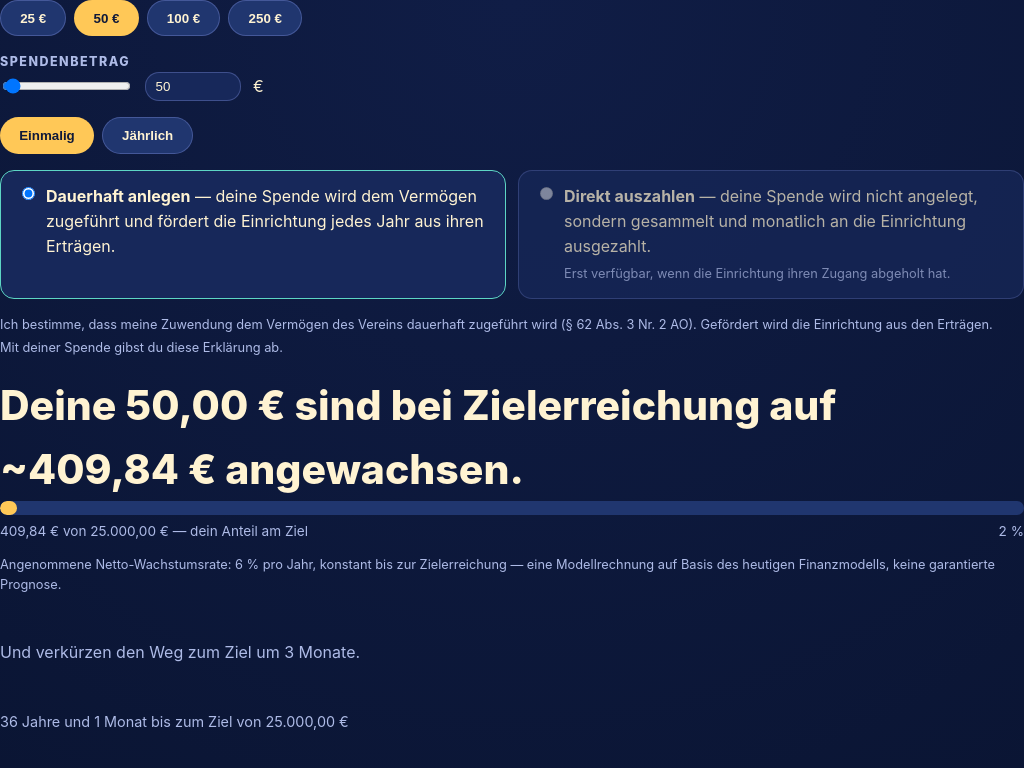
Test case: SpendenRechner › zeigt Bastelmaterial statt Spielzeug, sobald der Jahresertrag die zweite Stufe erreicht
Replace the text in the number field named "Spendenbetrag" with "500": (193, 86) 145,72 -> 241,101
(page scrolled)
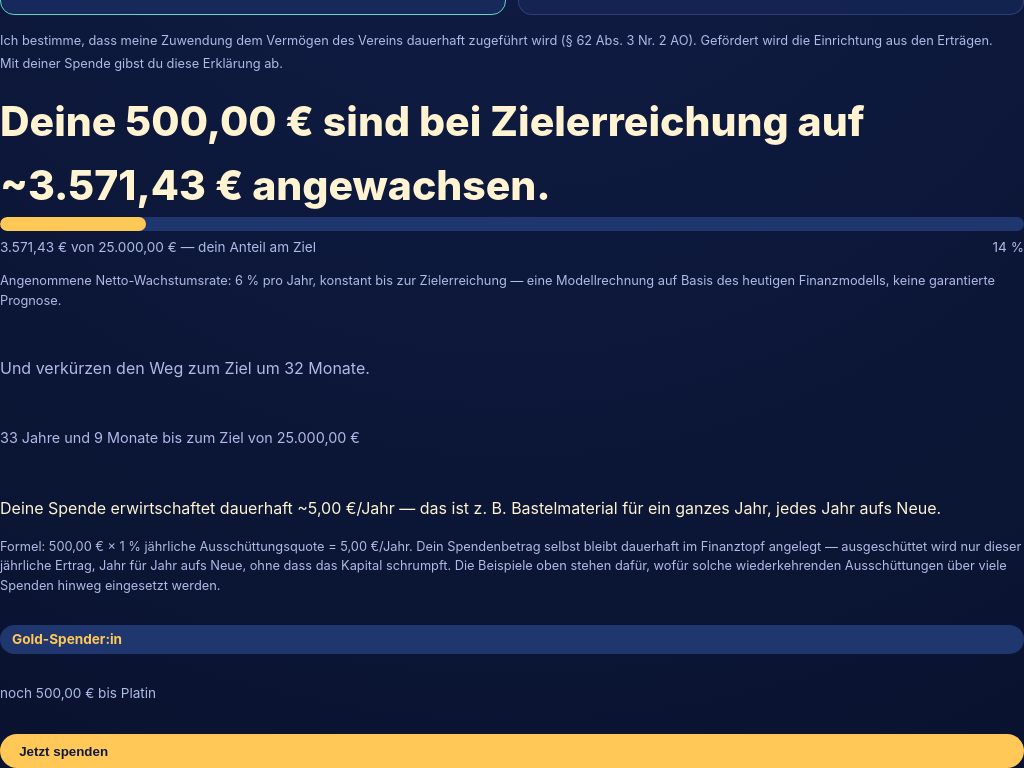
Result: the element with test id "impact-beispiel" shows "5,00 €/Jahr" at 0,498 -> 941,518
Result: the element with test id "impact-beispiel" shows "Bastelmaterial" at 0,498 -> 941,518
